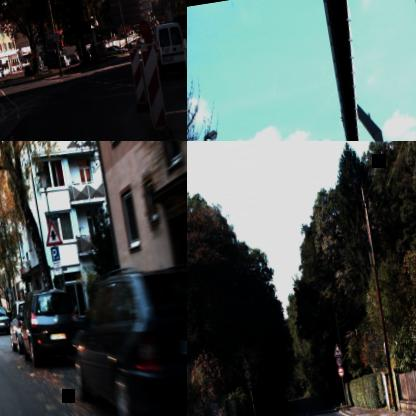no overtaking (trucks): (336, 365, 345, 377), (245, 380, 253, 390)
priority at next intersection: (41, 216, 63, 246)
slippery road: (238, 354, 250, 370), (332, 342, 342, 356)
speed limit 50: (242, 368, 252, 380), (335, 356, 343, 367)
